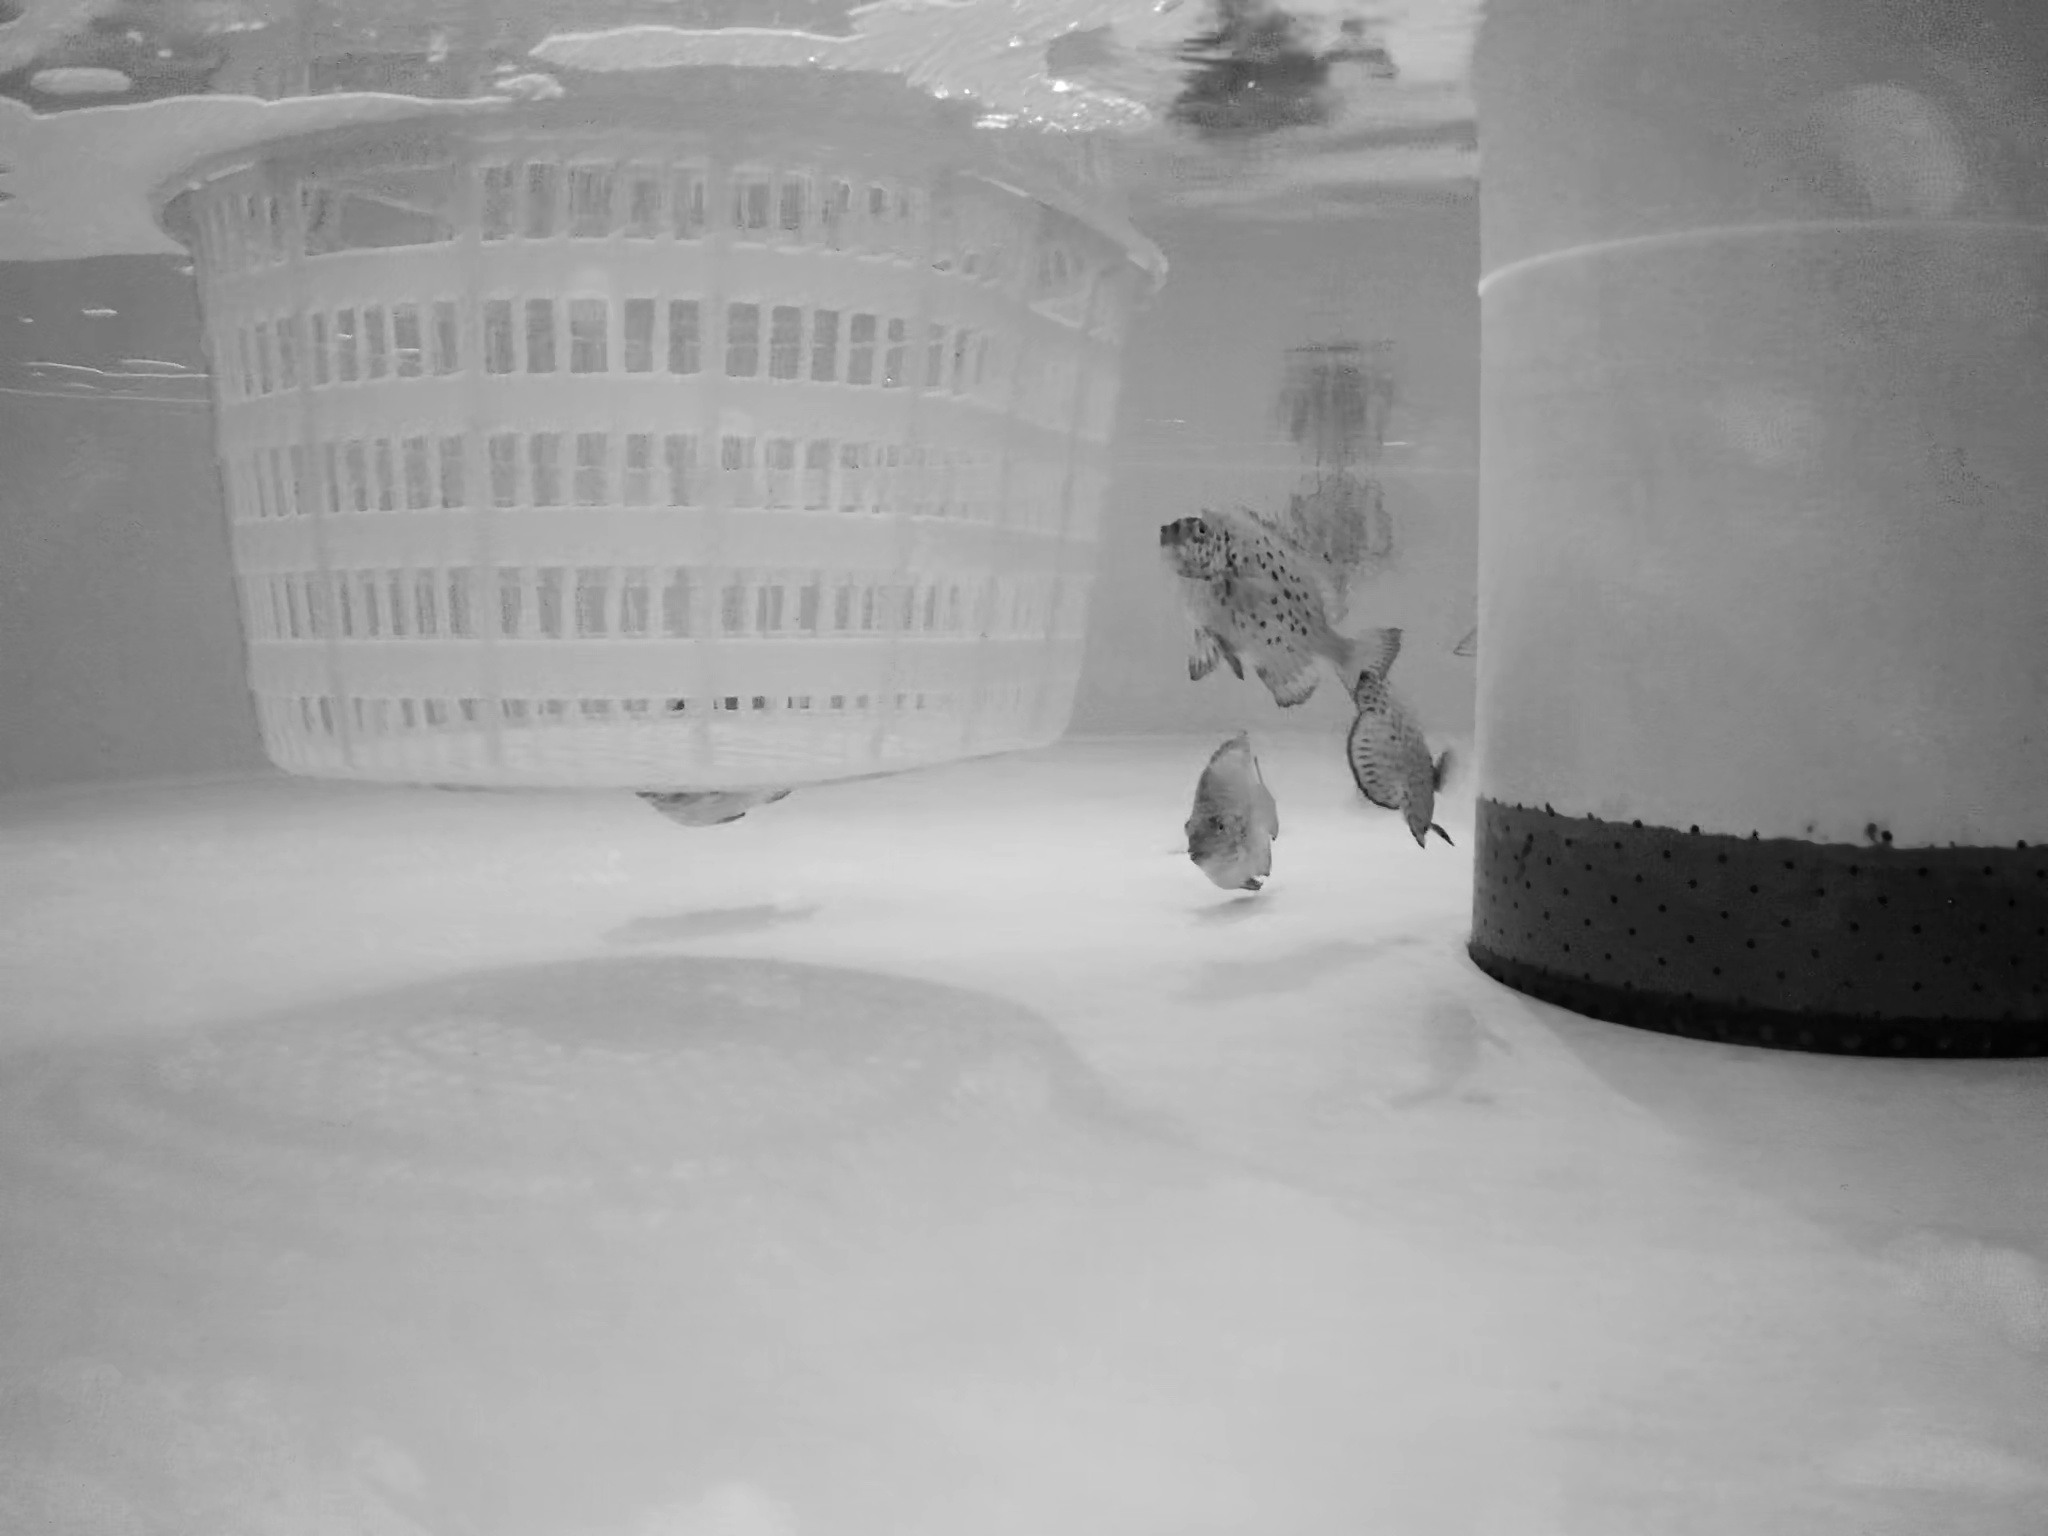fish: (1148, 510, 1409, 703), (616, 679, 800, 823), (1172, 726, 1282, 891), (1348, 679, 1445, 836)
